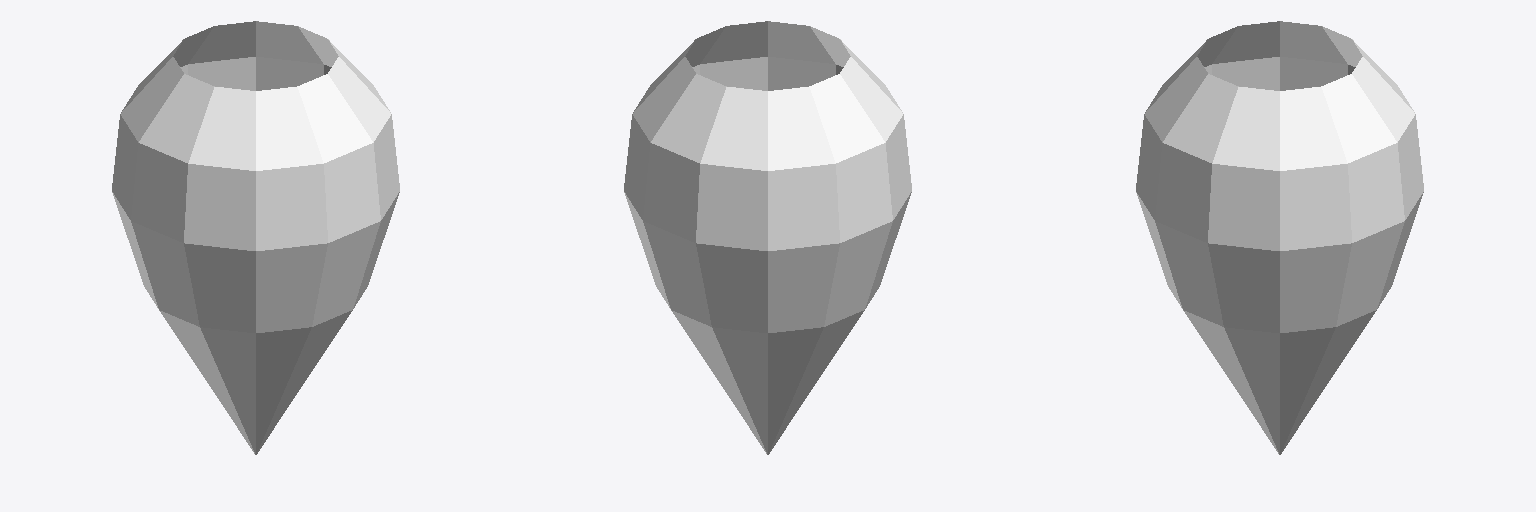
The picture shows the model from 3 angles: view 1: azimuth 30°, elevation 25°; view 2: azimuth 150°, elevation 25°; view 3: azimuth 270°, elevation 25°; orthographic projection.
Visible parts, largest first — view 1: Flame_Mesh_New_Mesh; view 2: Flame_Mesh_New_Mesh; view 3: Flame_Mesh_New_Mesh.
Part boxes in pixels (x1,y1,x2,y2): Flame_Mesh_New_Mesh: (112,21,399,454); Flame_Mesh_New_Mesh: (624,21,911,454); Flame_Mesh_New_Mesh: (1136,21,1423,454).
Bounding box in the file's own units: 0.1595 × 0.2435 × 0.1595.